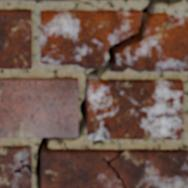brick: (87, 80, 182, 139), (42, 149, 187, 187), (0, 78, 77, 137), (0, 10, 30, 67), (0, 146, 30, 184), (3, 169, 30, 187)
broken_brick: (40, 9, 140, 69), (110, 12, 187, 72)
crack: (0, 0, 185, 187), (102, 151, 127, 187)
